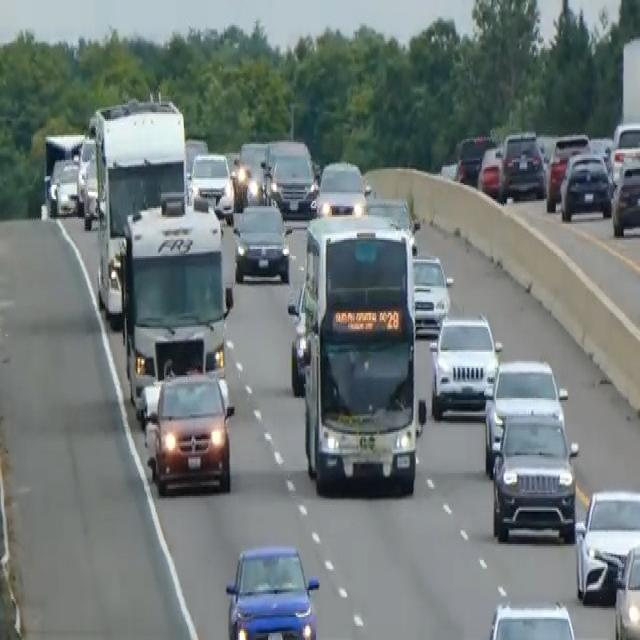bus: (298, 208, 425, 496), (118, 190, 235, 411)
car: (490, 406, 578, 542), (143, 368, 234, 494), (483, 356, 568, 474), (224, 540, 320, 638), (428, 311, 502, 418), (573, 486, 639, 604), (233, 199, 291, 283), (559, 150, 612, 220), (486, 598, 577, 638), (545, 132, 590, 210), (411, 251, 453, 334), (42, 132, 84, 215), (286, 274, 315, 394), (499, 128, 545, 201), (315, 158, 369, 217), (189, 149, 234, 219), (269, 151, 317, 215), (613, 540, 639, 638), (233, 138, 269, 204), (610, 158, 639, 236), (454, 133, 495, 185), (608, 119, 639, 185), (75, 135, 96, 213), (476, 144, 504, 197), (53, 158, 79, 215), (81, 156, 99, 228), (47, 156, 66, 214)
